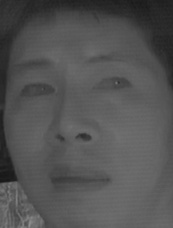eye: (91, 71, 133, 99), (15, 78, 58, 105)
mouth: (43, 158, 115, 199)
